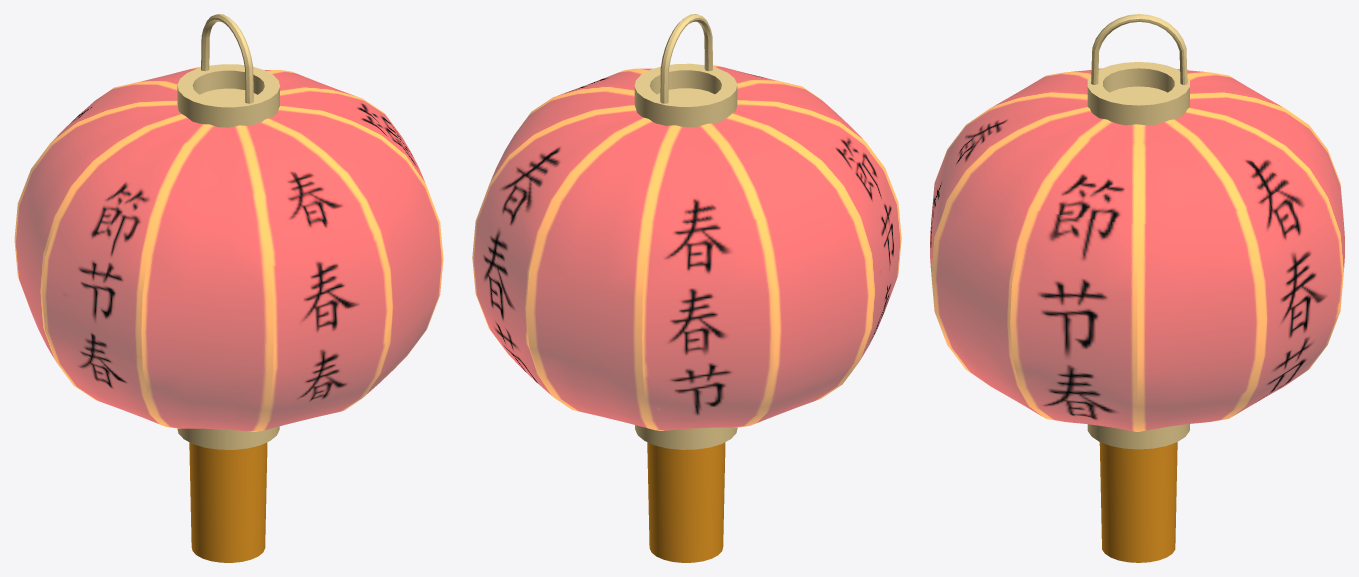
File: SM_lamp_02.fbx
The picture shows the model from 3 angles, left to right: view 1: azimuth 30°, elevation 25°; view 2: azimuth 150°, elevation 25°; view 3: azimuth 270°, elevation 25°; orthographic projection.
Parts seen in each view (by area): view 1: SM_lamp_02; view 2: SM_lamp_02; view 3: SM_lamp_02.
Part boxes in pixels (x1,y1,x2,y2): SM_lamp_02: (14,14,443,562); SM_lamp_02: (472,14,901,562); SM_lamp_02: (930,14,1344,562).
Size of the model in its own units: 97.48 by 93.33 by 132.
1 material, 1 textured.
